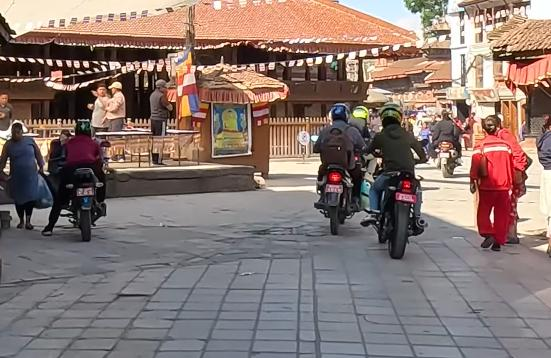bike: (364, 138, 432, 264), (49, 141, 118, 245)
